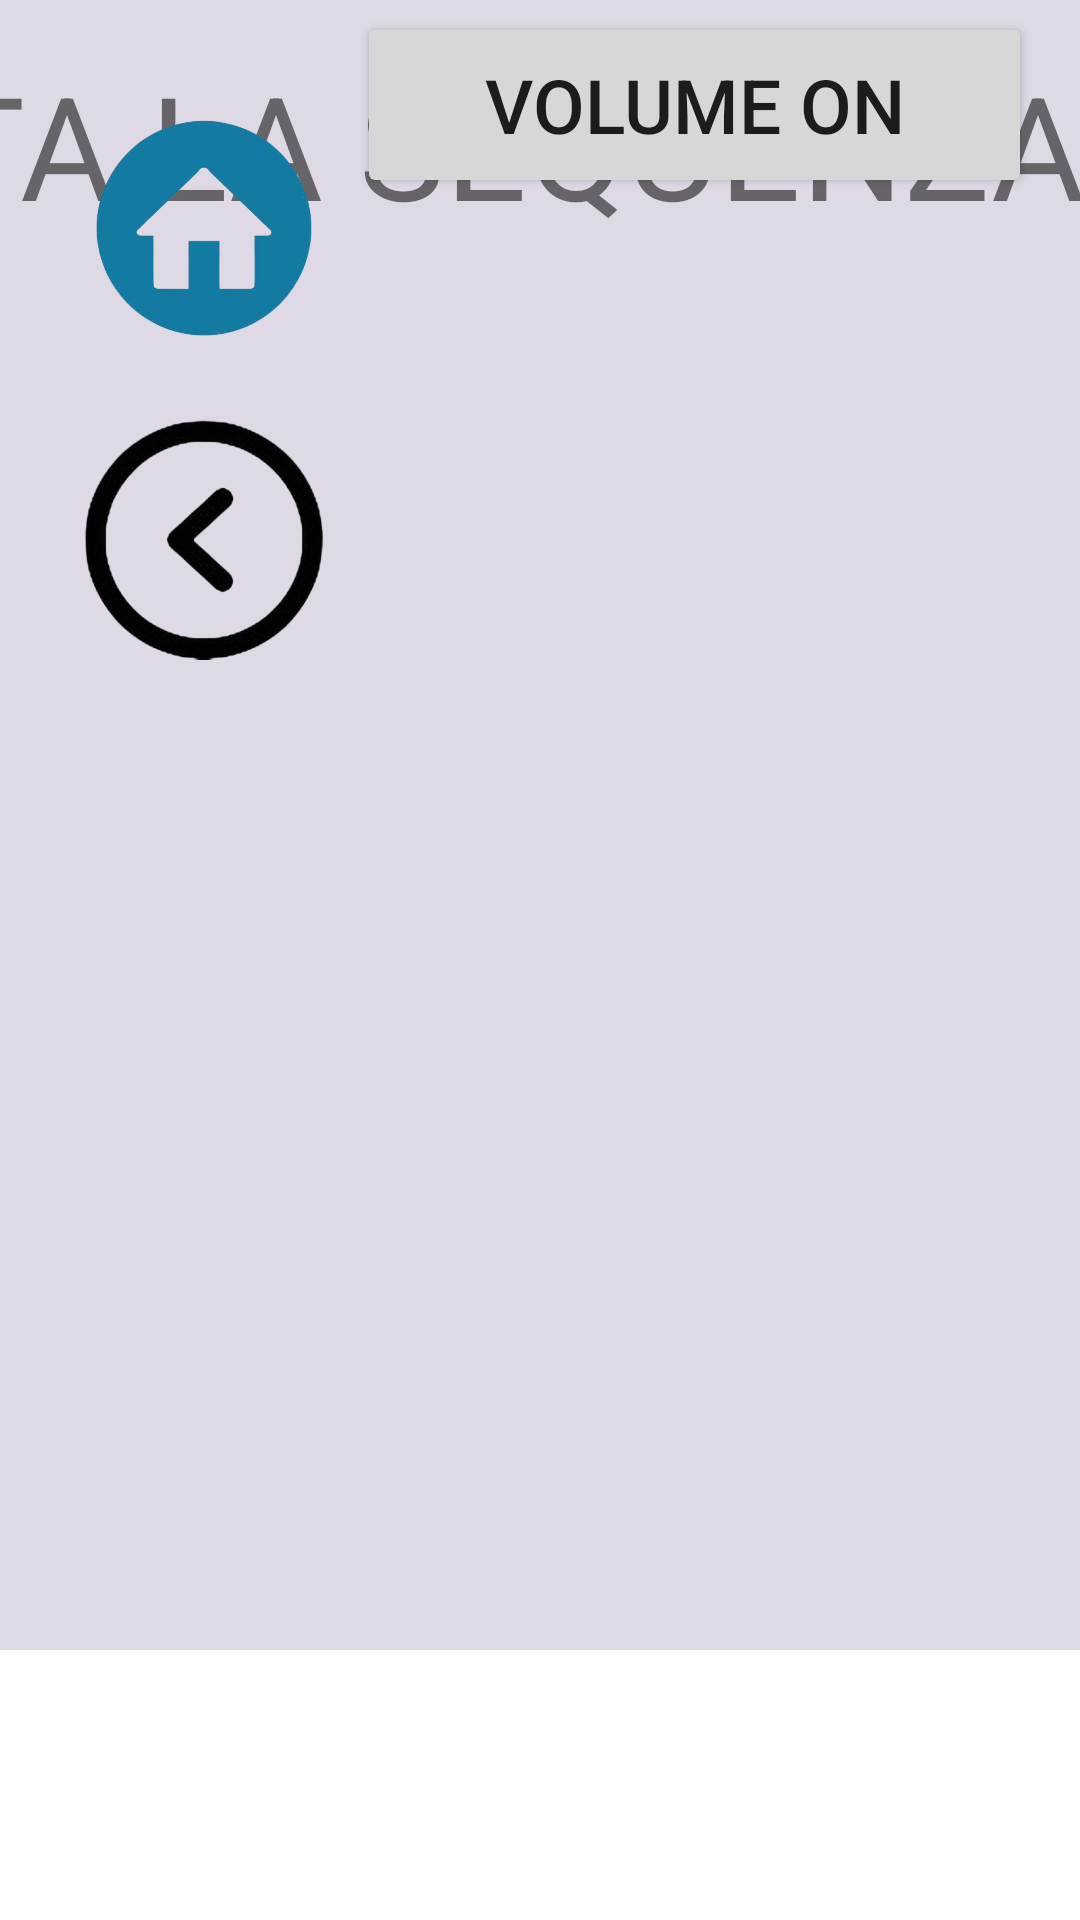

Icon bounding boxes for this 1080x1920 phone screenshot, format (x1, y1, x2, y2):
home: (84, 108, 321, 336)
indietro: (85, 420, 323, 660)
